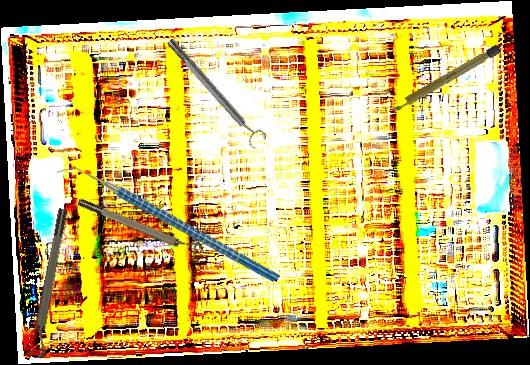Chopper: (54, 107, 281, 343)
Fixation Ring: (162, 33, 269, 151), (76, 190, 206, 262), (24, 207, 77, 360)
Scalpel Handle: (387, 43, 503, 115)
